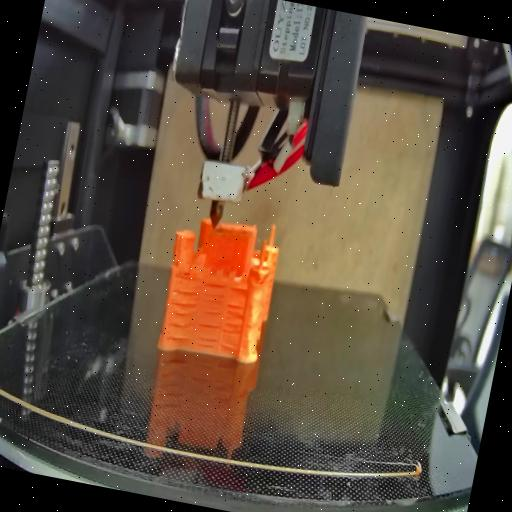cracks: (164, 286, 203, 344), (218, 304, 246, 350), (199, 280, 228, 314), (194, 320, 220, 351), (228, 284, 250, 293), (181, 264, 194, 278)
